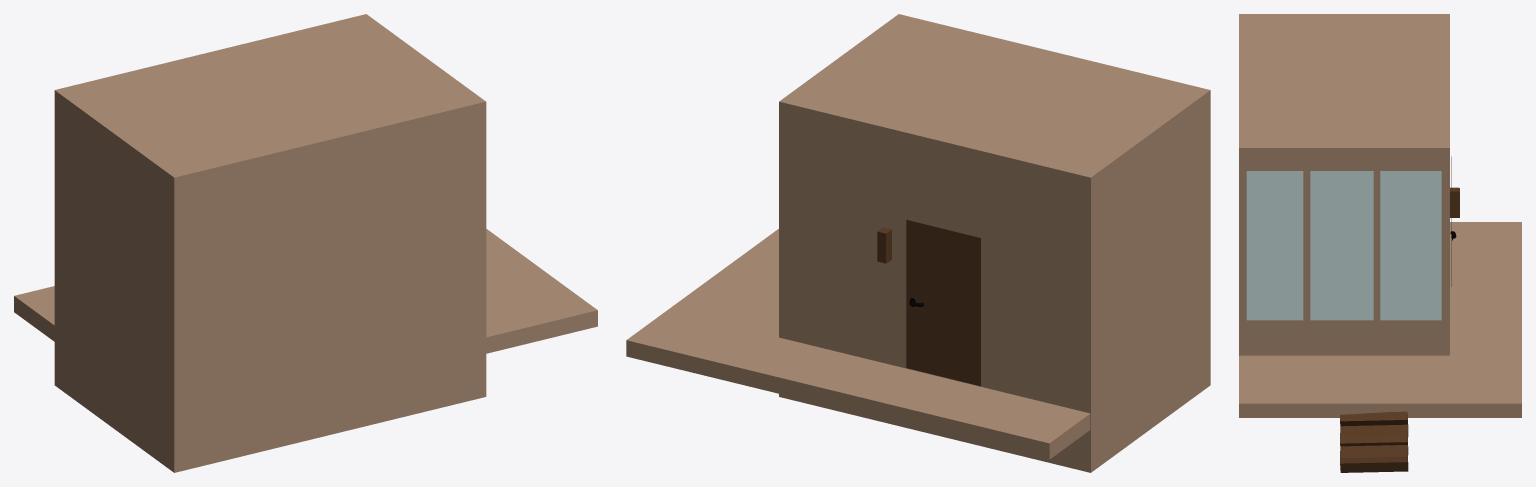
File: tinyhouse4.fbx
3 views of the same model, side by side, from view 1: azimuth 30°, elevation 25°; view 2: azimuth 150°, elevation 25°; view 3: azimuth 270°, elevation 25° (orthographic). The views are drawn at different scales.
Visible parts, largest first — view 1: Cube; view 2: Cube, Cube.004; view 3: Cube, Cube.001, Cube.002, Cube.006.
Boxes of the visible parts, x1,y1,x2,y2 form: Cube: [14, 14, 597, 472]; Cube: [626, 14, 1210, 472]; Cube.004: [906, 220, 980, 386]; Cube: [1239, 14, 1521, 417]; Cube.001: [1246, 171, 1441, 320]; Cube.002: [1340, 411, 1408, 472]; Cube.006: [1450, 187, 1459, 217].
Size of the model in its own units: 774 by 473 by 464.
